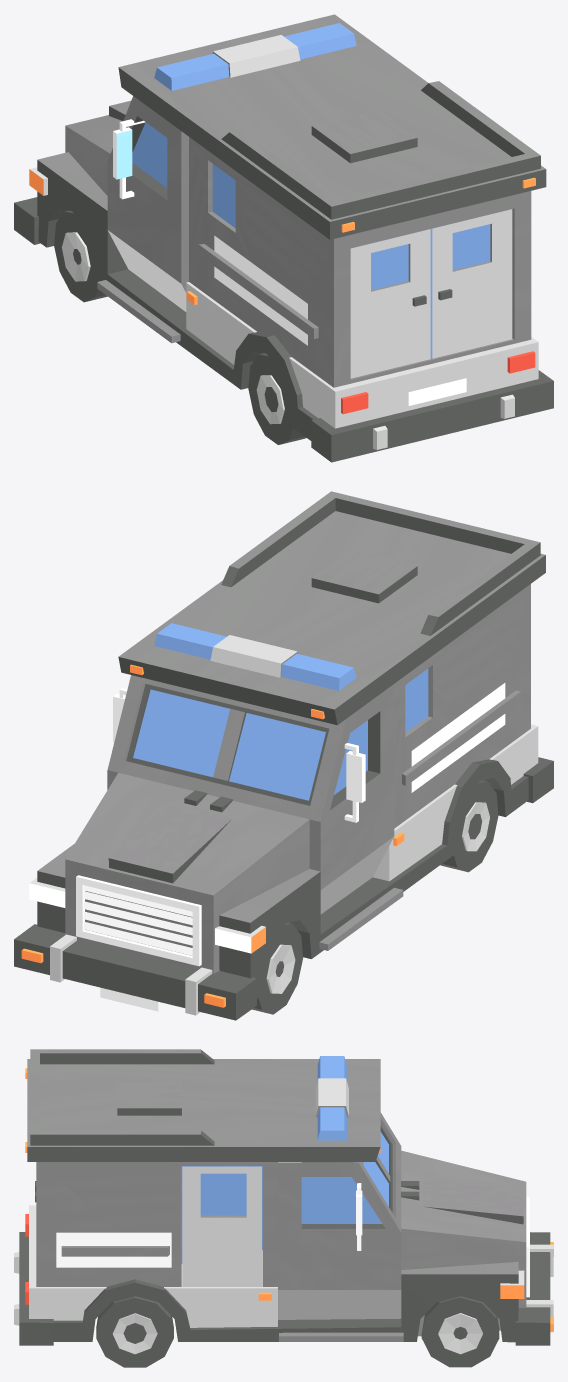
Rendered from transport_purpose.glb.
The picture shows the model from 3 angles, top to bottom: view 1: azimuth 30°, elevation 25°; view 2: azimuth 150°, elevation 25°; view 3: azimuth 270°, elevation 25°; orthographic projection. The views are drawn at different scales.
Parts seen in each view (by area): view 1: transport_purpose(Clone); view 2: transport_purpose(Clone); view 3: transport_purpose(Clone).
Part boxes in pixels (left/top/right/bottom): transport_purpose(Clone): left=14, top=14, right=553, bottom=462; transport_purpose(Clone): left=14, top=491, right=553, bottom=1020; transport_purpose(Clone): left=14, top=1049, right=553, bottom=1367.
Size of the model in its own units: 2.02 by 2.17 by 4.54.
Materials: 1 (1 with a texture image).
